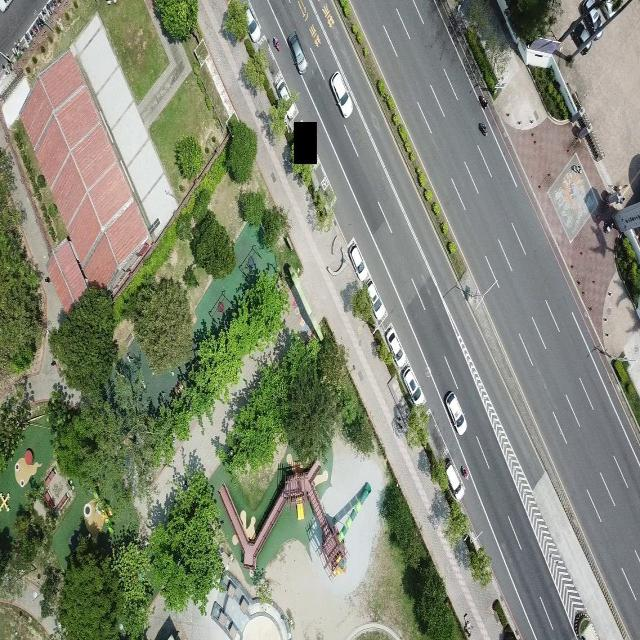bike: (478, 94, 488, 108), (478, 121, 487, 136), (272, 36, 280, 51)
car: (362, 276, 388, 323), (399, 363, 426, 408), (329, 70, 353, 118), (347, 237, 371, 285), (384, 322, 407, 370), (286, 30, 308, 74), (443, 390, 464, 429), (579, 0, 601, 33), (244, 3, 261, 43), (444, 457, 461, 494), (273, 72, 290, 102)
